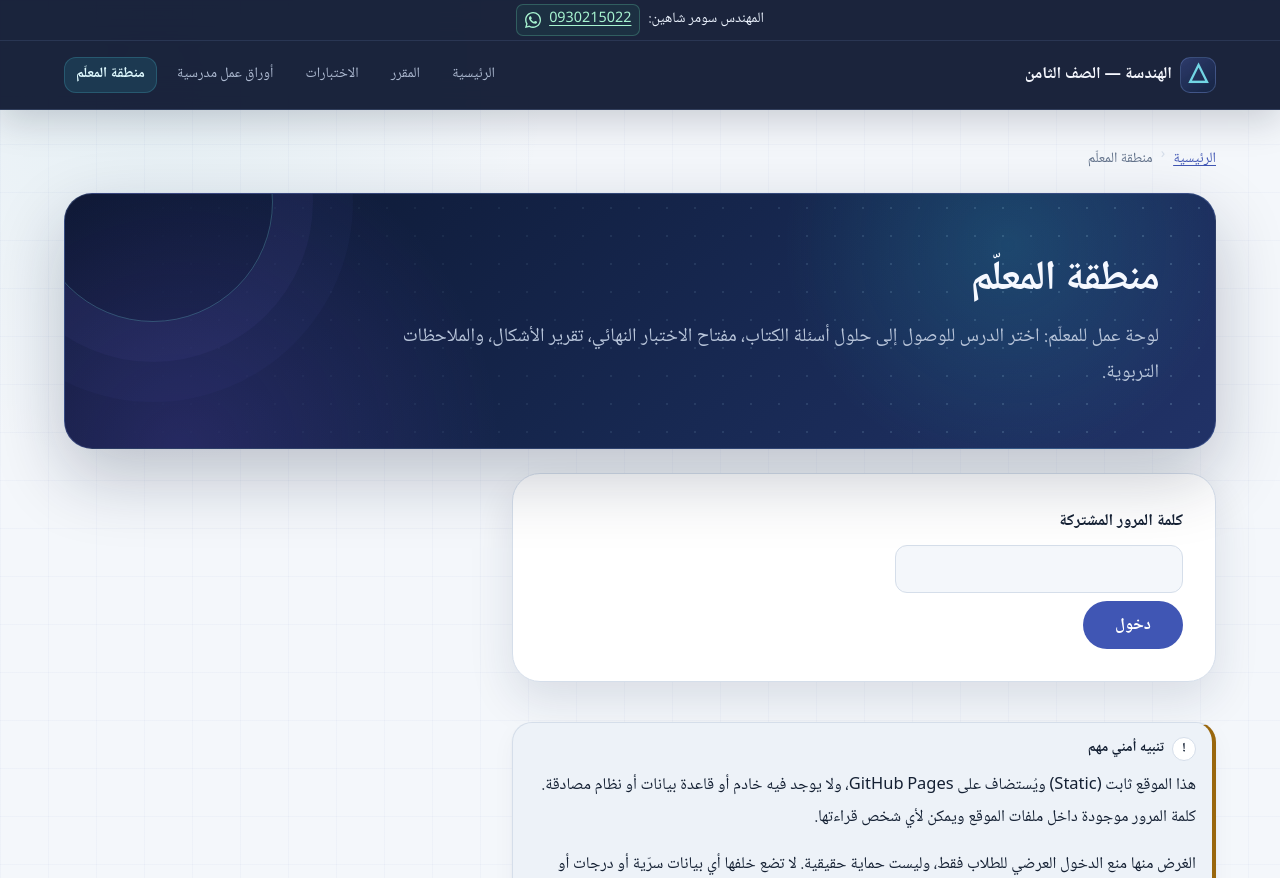
Scenario: Lesson 3 — assessment and Teacher Area › appears automatically on the registry-driven Teacher dashboard
The width and height of the screenshot is (1280, 878).
Expected: the text "صورة شكل وفق انسحاب" is not shown
In the password field labelled "كلمة المرور المشتركة": (1039, 569) [895,545,1183,593], type "somer173"
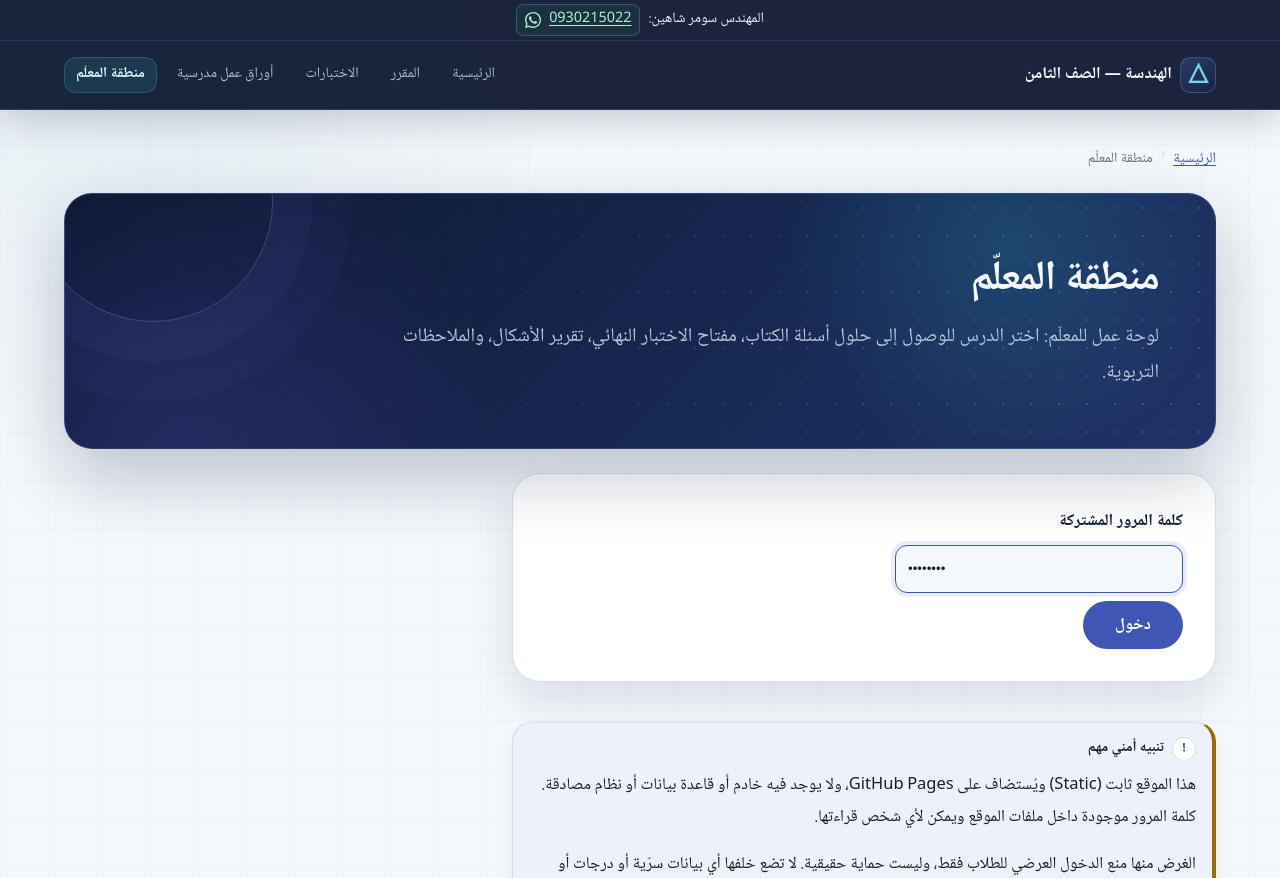
Click the button "دخول": (1133, 625) [1083,601,1183,649]
(page scrolled)
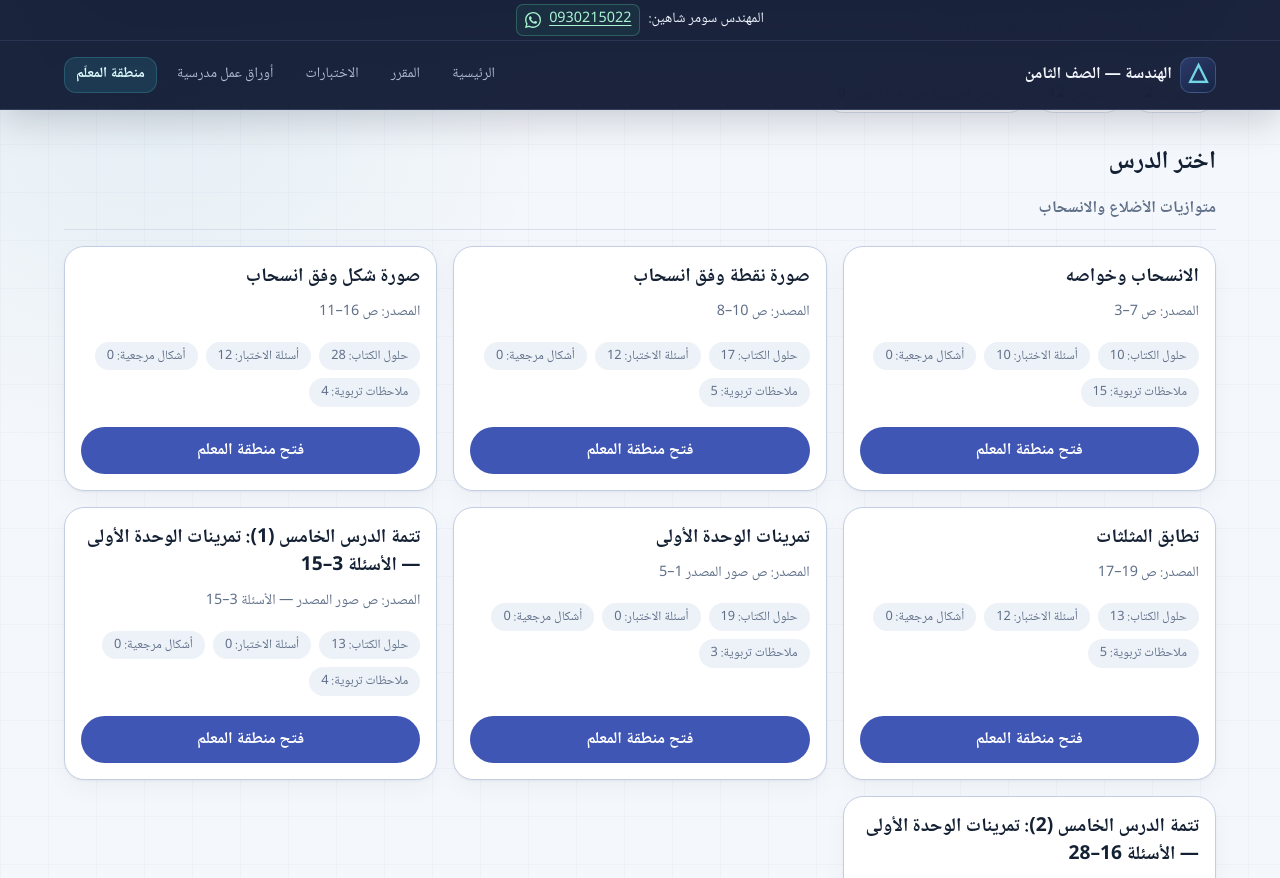
Expected: the list item "صورة شكل وفق انسحاب" is shown, [246,260,420,293]
Expected: the link "فتح منطقة المعلم" below "صورة شكل وفق انسحاب" is shown, [81,427,420,474]
